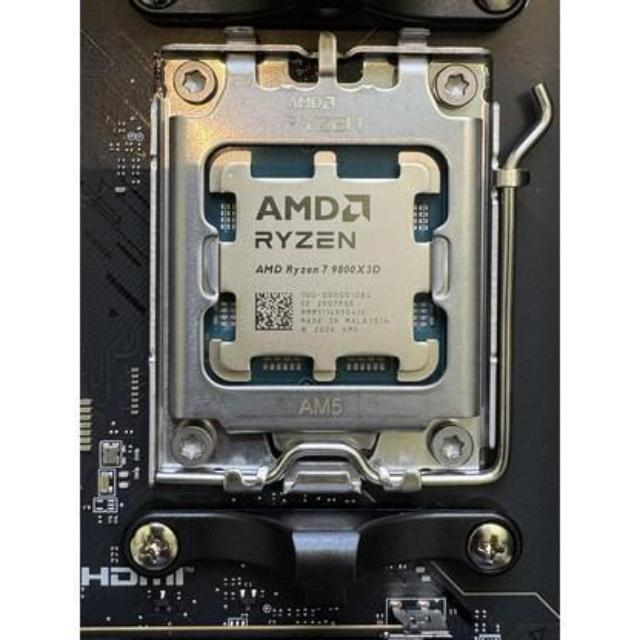CPU: (204, 153, 446, 390)
